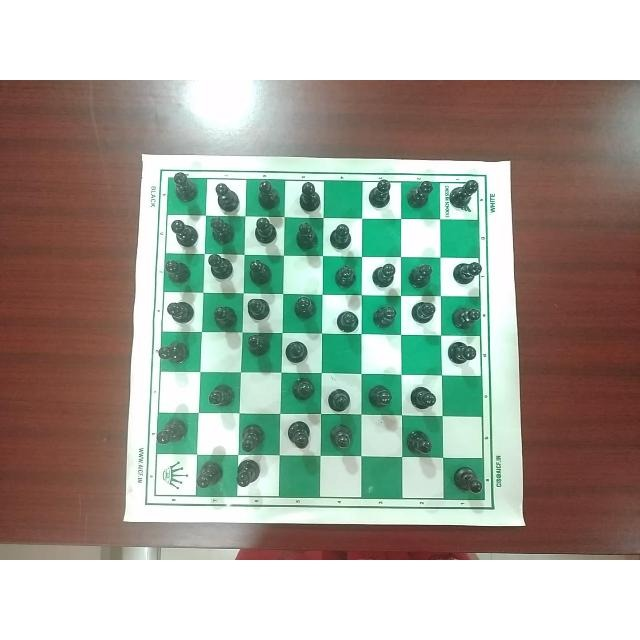black-pawn: (450, 465, 484, 499), (162, 295, 196, 328), (448, 177, 480, 212), (157, 416, 188, 452), (194, 459, 225, 495), (404, 425, 437, 457), (210, 179, 239, 215), (408, 381, 440, 413), (249, 215, 279, 249), (448, 259, 482, 289), (444, 338, 478, 368), (167, 217, 198, 249), (156, 337, 190, 366), (255, 177, 282, 213), (281, 336, 312, 367), (406, 176, 432, 212), (207, 215, 237, 246), (448, 303, 481, 331), (291, 218, 318, 252), (234, 458, 261, 492), (405, 262, 435, 292), (368, 301, 398, 331), (170, 171, 198, 203), (207, 251, 235, 283), (205, 381, 237, 409), (289, 376, 317, 408), (284, 420, 312, 452), (296, 179, 322, 213), (369, 260, 397, 291), (238, 422, 266, 453), (163, 257, 193, 285), (325, 385, 355, 413), (410, 299, 438, 328), (326, 422, 354, 451), (209, 301, 236, 331), (243, 331, 273, 358), (368, 176, 392, 209), (331, 262, 358, 291), (290, 295, 318, 322), (366, 383, 394, 410), (327, 222, 353, 250), (245, 297, 273, 323), (334, 307, 360, 334), (247, 259, 272, 285)
